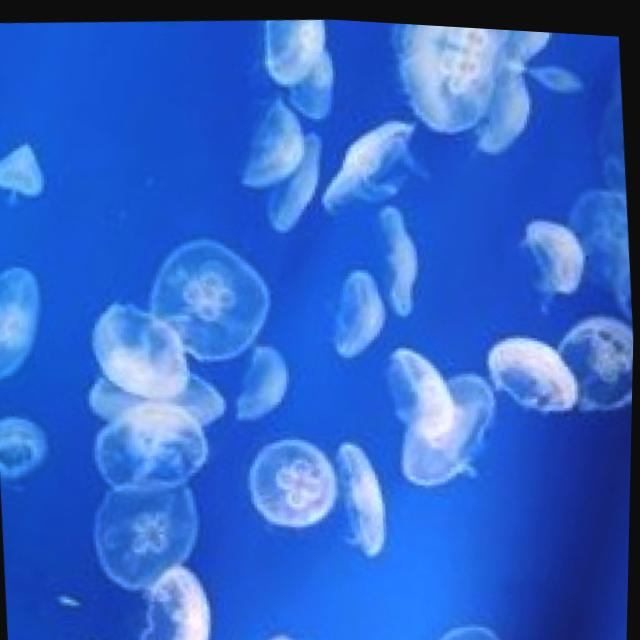Moon-jellyfish: (130, 203, 275, 363), (78, 461, 221, 599), (81, 282, 201, 416), (394, 18, 508, 157), (315, 91, 422, 222), (237, 427, 352, 543), (487, 192, 597, 306), (486, 302, 585, 426), (212, 303, 301, 437), (313, 237, 398, 376), (382, 326, 472, 451), (239, 78, 317, 216), (371, 181, 425, 322)
